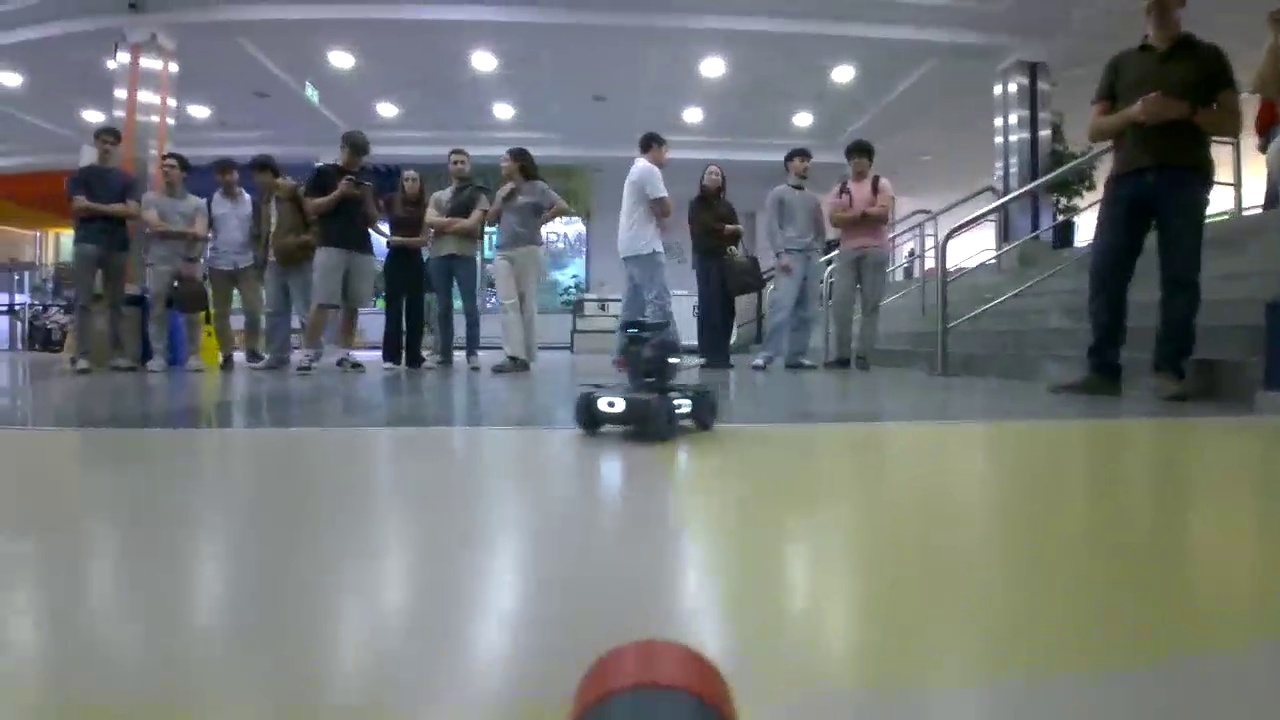robot: (573, 322, 719, 441)
